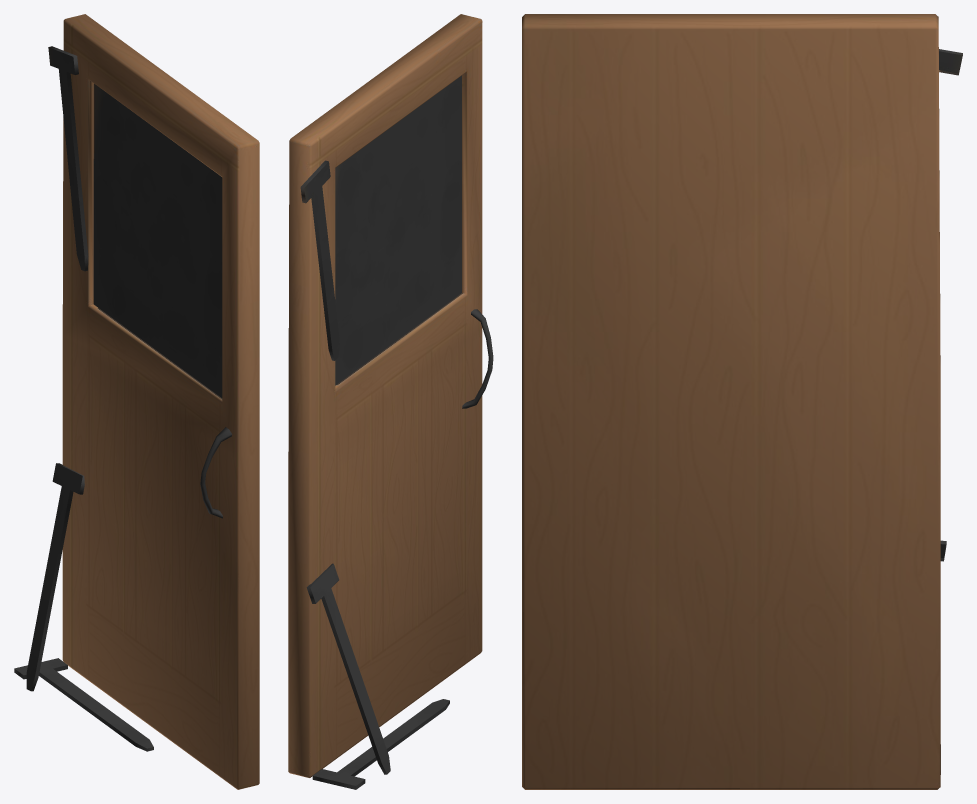
Rendered from WorkshopDoor_Broken.fbx.
3 renders of one model, left to right at view 1: azimuth 30°, elevation 25°; view 2: azimuth 150°, elevation 25°; view 3: azimuth 270°, elevation 25°, orthographic. The views are drawn at different scales.
Parts seen in each view (by area): view 1: WorkshopDoor.001, MetalParts.003, MetalParts.001, MetalParts.002, Handle.002; view 2: WorkshopDoor.001, MetalParts.003, MetalParts.001, MetalParts.002, Handle.002; view 3: WorkshopDoor.001.
Boxes of the visible parts, x1=… form: WorkshopDoor.001: x1=62, y1=14, x2=259, y2=789; MetalParts.003: x1=26, y1=463, x2=84, y2=691; MetalParts.001: x1=48, y1=46, x2=88, y2=271; MetalParts.002: x1=14, y1=658, x2=153, y2=751; Handle.002: x1=200, y1=427, x2=232, y2=518; WorkshopDoor.001: x1=288, y1=14, x2=482, y2=777; MetalParts.003: x1=306, y1=563, x2=390, y2=774; MetalParts.001: x1=300, y1=160, x2=339, y2=360; MetalParts.002: x1=312, y1=699, x2=449, y2=789; Handle.002: x1=462, y1=309, x2=493, y2=408; WorkshopDoor.001: x1=522, y1=14, x2=940, y2=789.
Bounding box in the file's own units: 0.2542 × 1.97 × 1.03.
